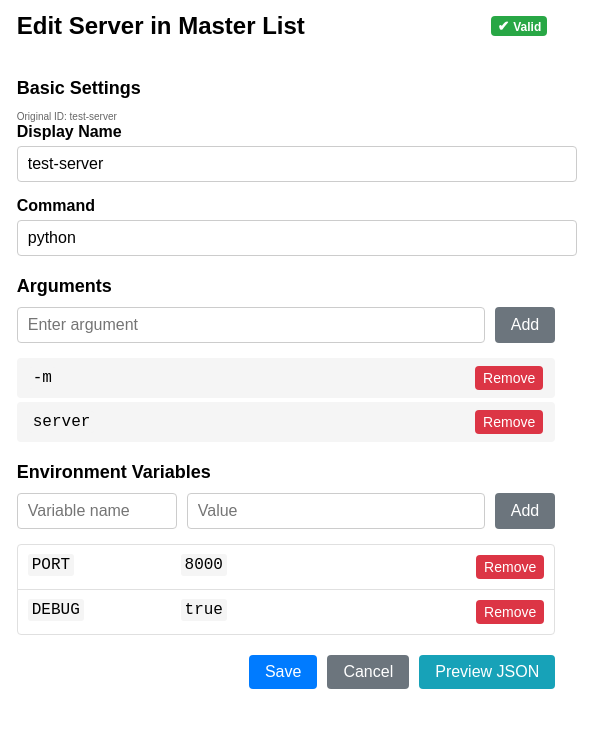
it: MasterServerForm › handles adding arguments
Step 1. Type "--new-arg" into the field with placeholder "Enter argument" → (251, 325), box [17, 307, 485, 343]
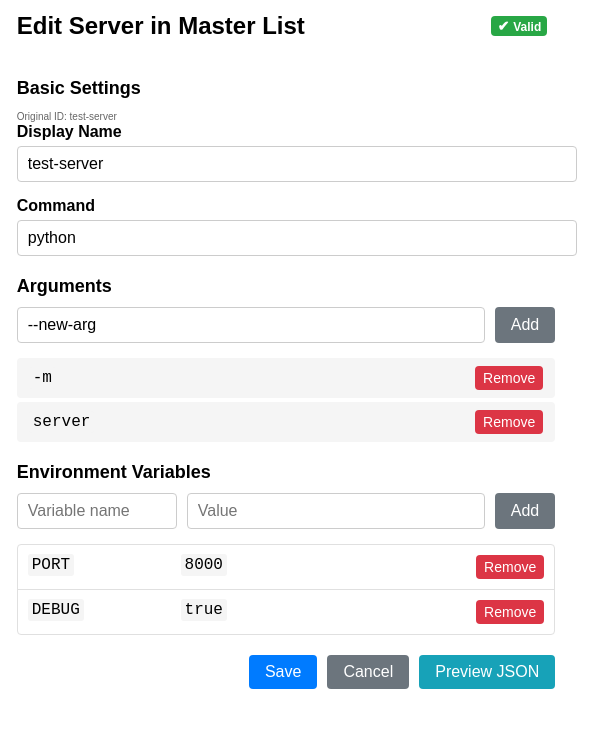
Step 2. Click the 1st button "Add" → (525, 325), box [495, 307, 555, 343]
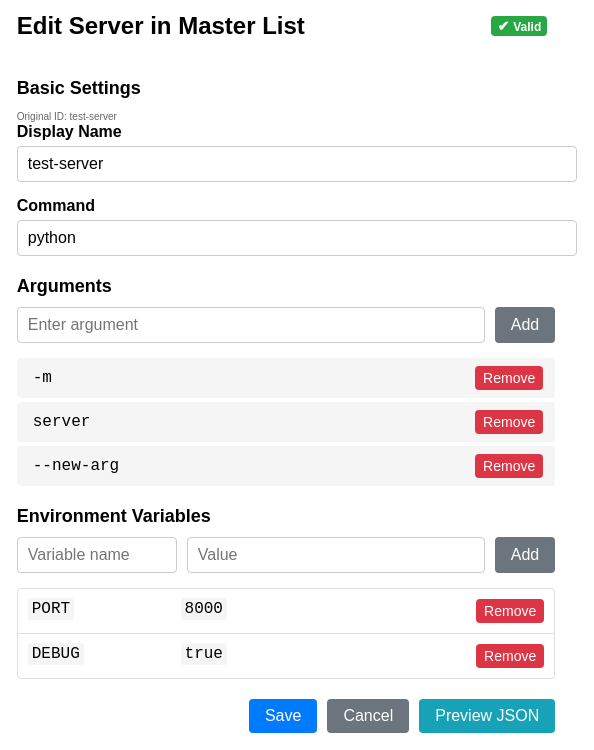
expect the text "--new-arg" is shown: met, box [29, 455, 123, 477]
expect the field with placeholder "Enter argument" is empty: met, box [17, 307, 485, 343]
